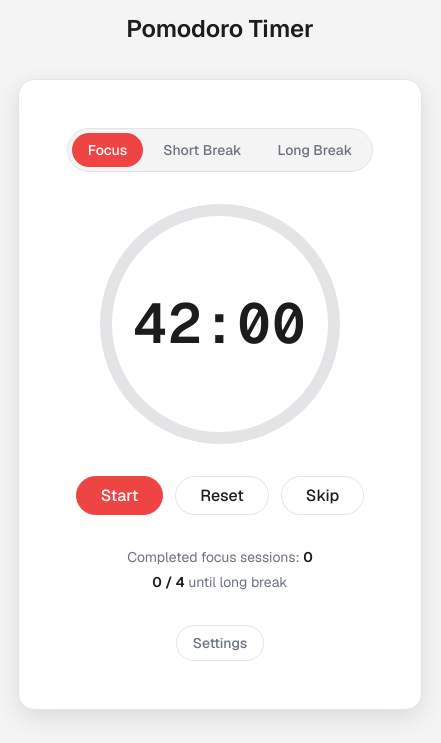
Test: SettingsPanel — settings & persistence › restores persisted settings on mount
The width and height of the screenshot is (441, 743).
Check: the text "42:00" is shown, box [133,296,307,352]
What coordinates should you click on to do the following:
click the button "Settings"
I would click on:
 (220, 642)
Its box is [176,624,264,660].
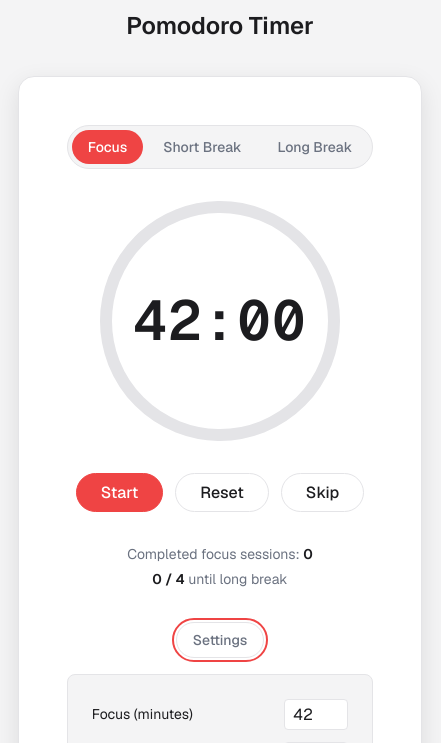
Check: the number field labelled "Focus (minutes)" holds "42", box [284,699,348,730]
